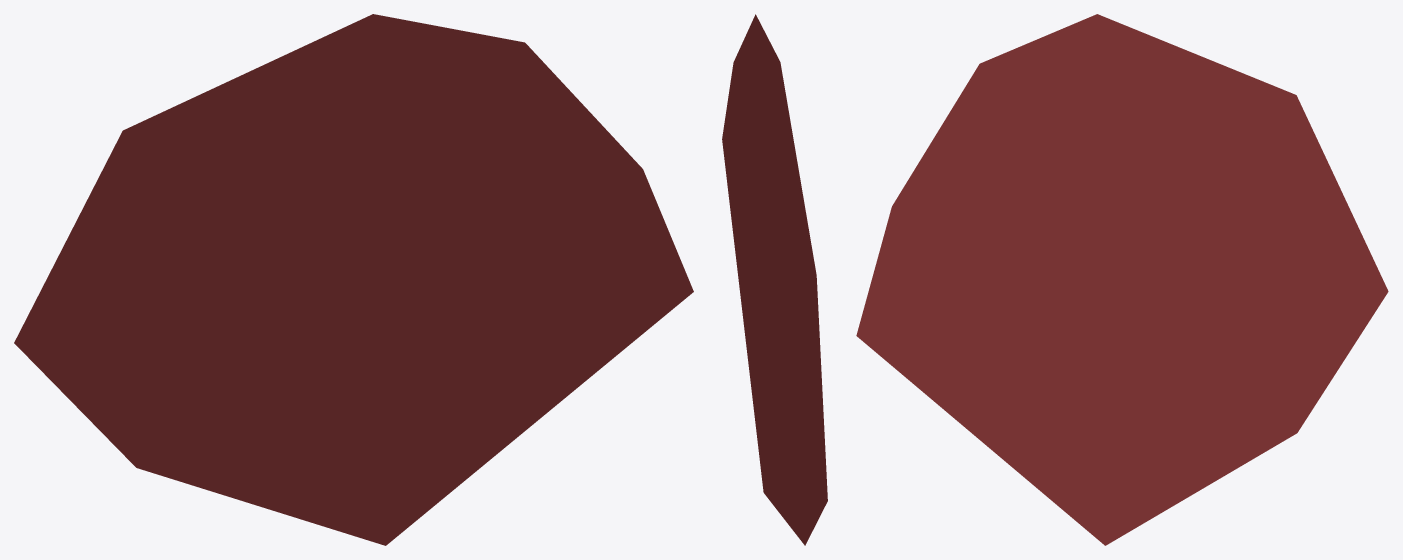
Rendered from flexor-pollicis-longus-el.glb.
3 renders of one model, left to right at view 1: azimuth 30°, elevation 25°; view 2: azimuth 150°, elevation 25°; view 3: azimuth 270°, elevation 25°, orthographic. The views are drawn at different scales.
Parts seen in each view (by area): view 1: Flexor pollicis longus.el; view 2: Flexor pollicis longus.el; view 3: Flexor pollicis longus.el.
Part boxes in pixels (bbox=[...]): Flexor pollicis longus.el: bbox=[14, 14, 693, 545]; Flexor pollicis longus.el: bbox=[722, 14, 827, 545]; Flexor pollicis longus.el: bbox=[856, 14, 1388, 545].
Size of the model in its own units: 0.00314 by 0.00399 by 0.00367.
